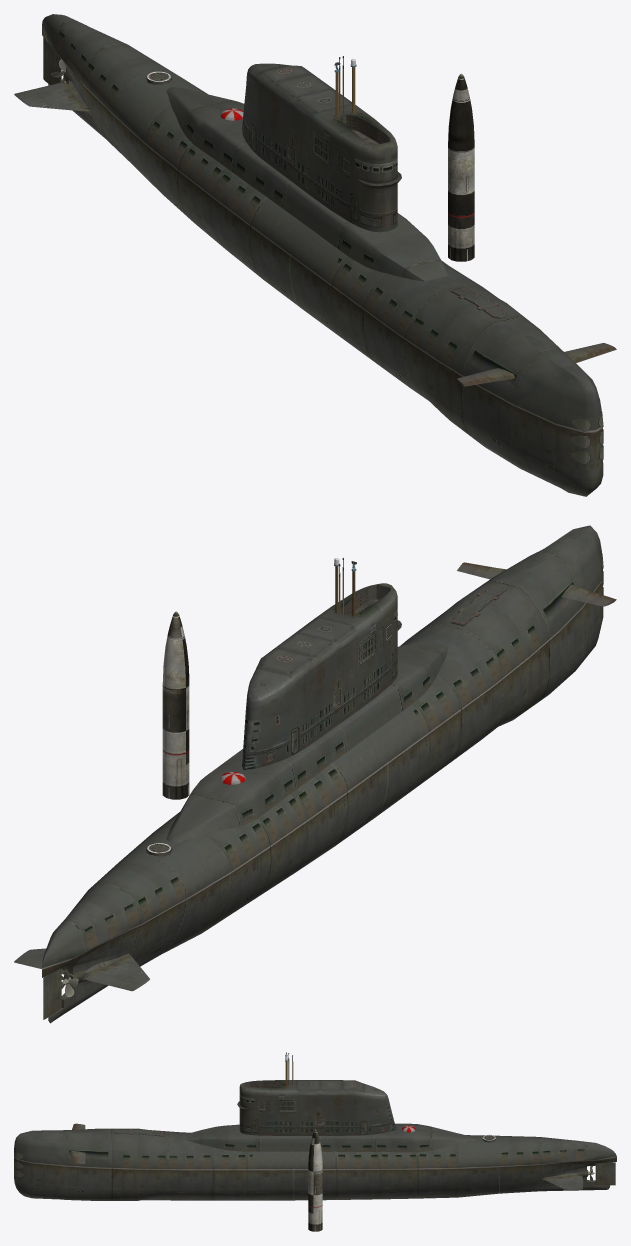
The model's file is submarine.glb.
3 renders of one model, top to bottom at view 1: azimuth 30°, elevation 25°; view 2: azimuth 150°, elevation 25°; view 3: azimuth 270°, elevation 25°, orthographic. The views are drawn at different scales.
Visible parts, largest first — view 1: Material1 (×2); view 2: Material1 (×2); view 3: Material1 (×2).
Boxes of the visible parts, x1=… form: Material1 (×2): x1=14, y1=14, x2=616, y2=496; Material1 (×2): x1=14, y1=525, x2=616, y2=1023; Material1 (×2): x1=14, y1=1052, x2=616, y2=1231.
Size of the model in its own units: 393 by 435 by 1637.
Materials: 1 (1 with a texture image).
